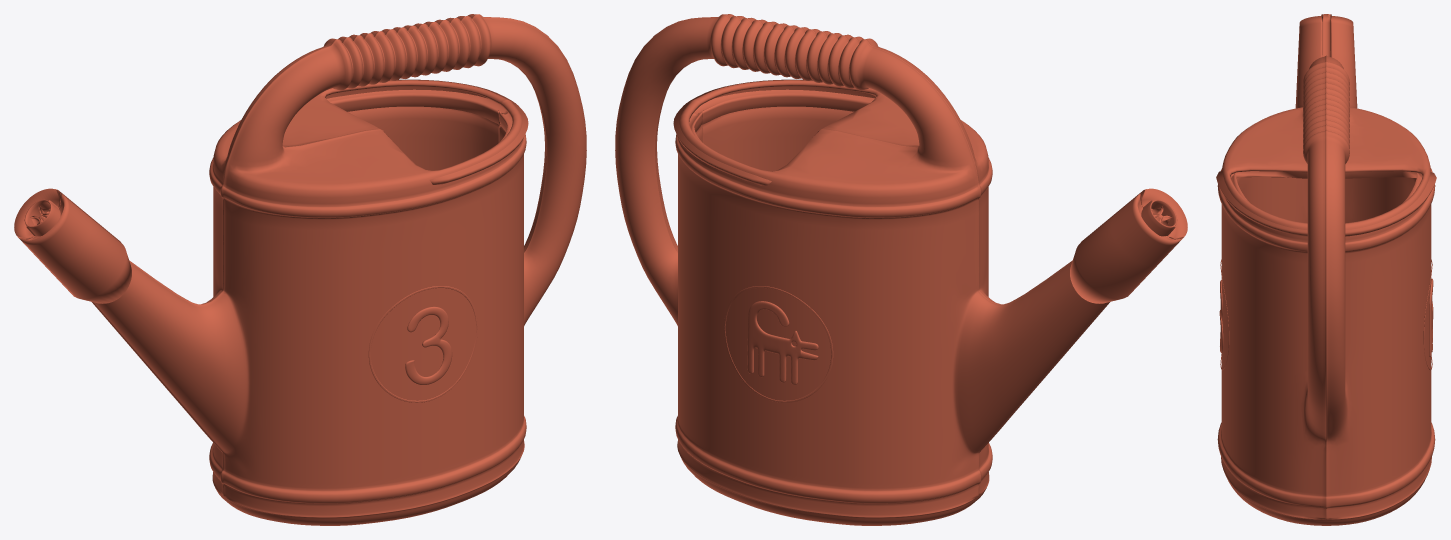
File: kantica.fbx
3 renders of one model, left to right at view 1: azimuth 30°, elevation 25°; view 2: azimuth 150°, elevation 25°; view 3: azimuth 270°, elevation 25°, orthographic. The views are drawn at different scales.
Parts seen in each view (by area): view 1: Kantica; view 2: Kantica; view 3: Kantica.
Part boxes in pixels (x1,y1,x2,y2): Kantica: [14, 14, 586, 525]; Kantica: [615, 14, 1187, 525]; Kantica: [1216, 14, 1436, 525].
Size of the model in its own units: 41.37 by 31.03 by 15.67.
